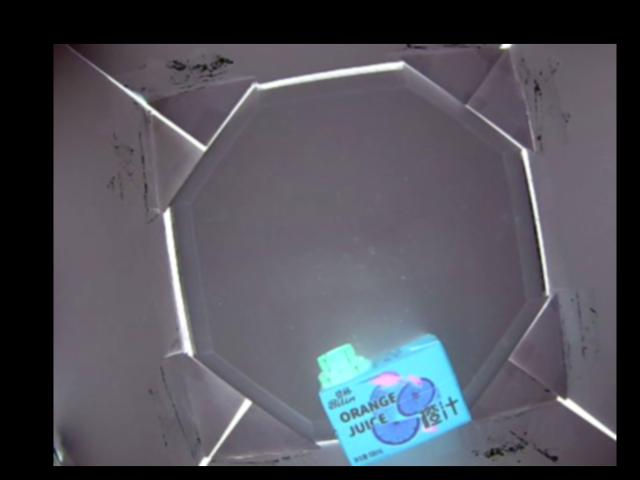Bottle: (314, 334, 475, 466)
